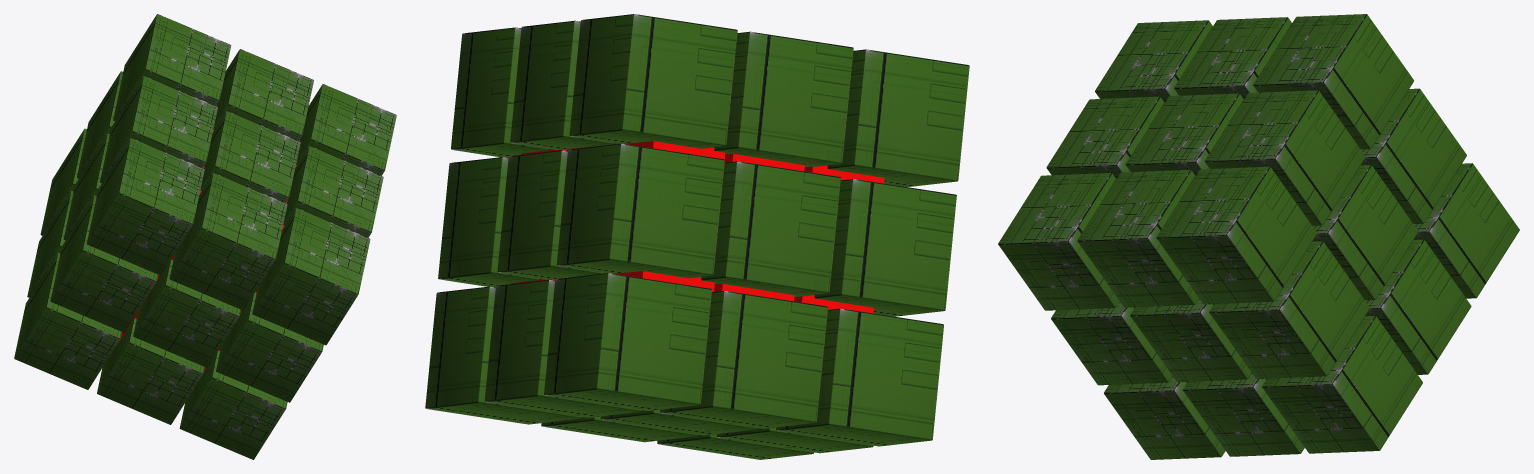
3 renders of one model, left to right at view 1: azimuth 30°, elevation 25°; view 2: azimuth 150°, elevation 25°; view 3: azimuth 270°, elevation 25°, orthographic. The views are drawn at different scales.
Visible parts, largest first — view 1: root; view 2: root; view 3: root.
Boxes of the visible parts, x1,y1,x2,y2 form: root: [14, 14, 396, 459]; root: [425, 14, 969, 459]; root: [998, 14, 1519, 459].
Bounding box in the file's own units: 3.59 × 3.67 × 3.91.
2 materials, 1 textured.
